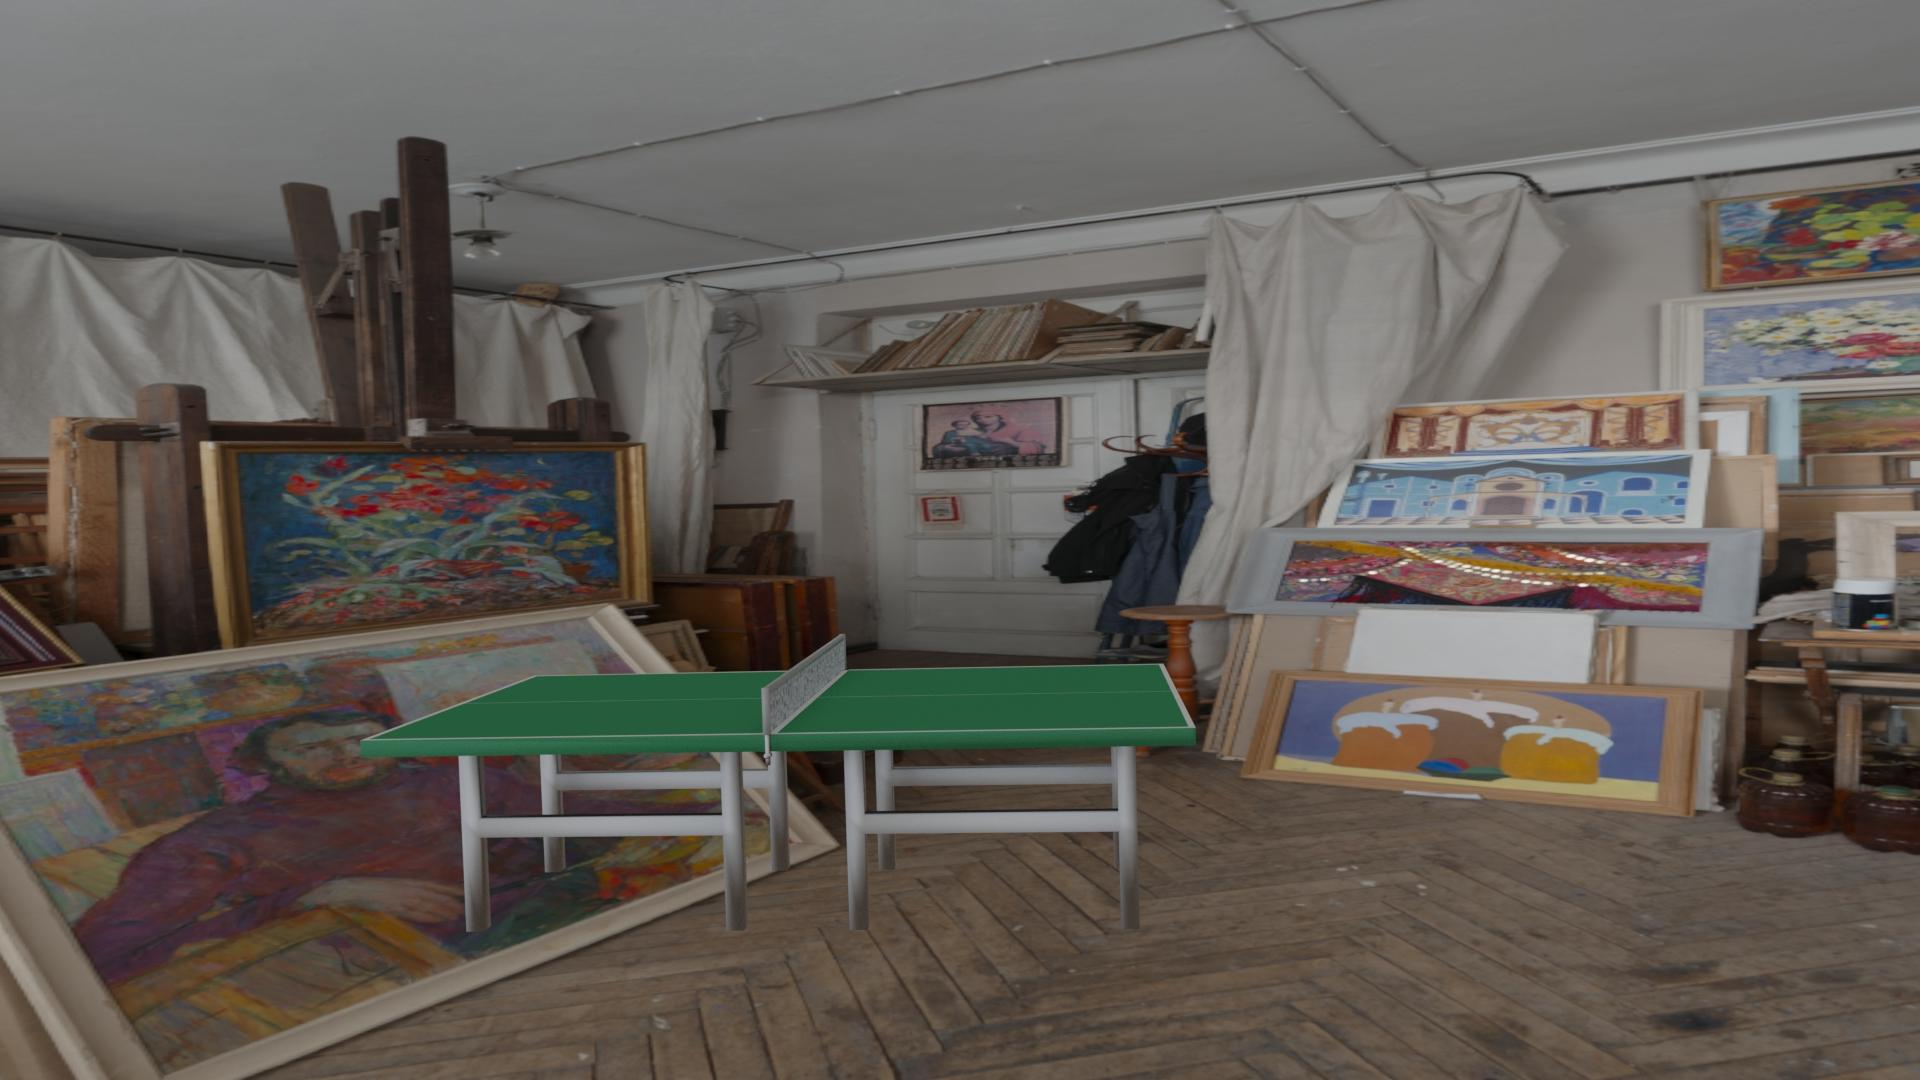table: (369, 665, 1188, 740)
